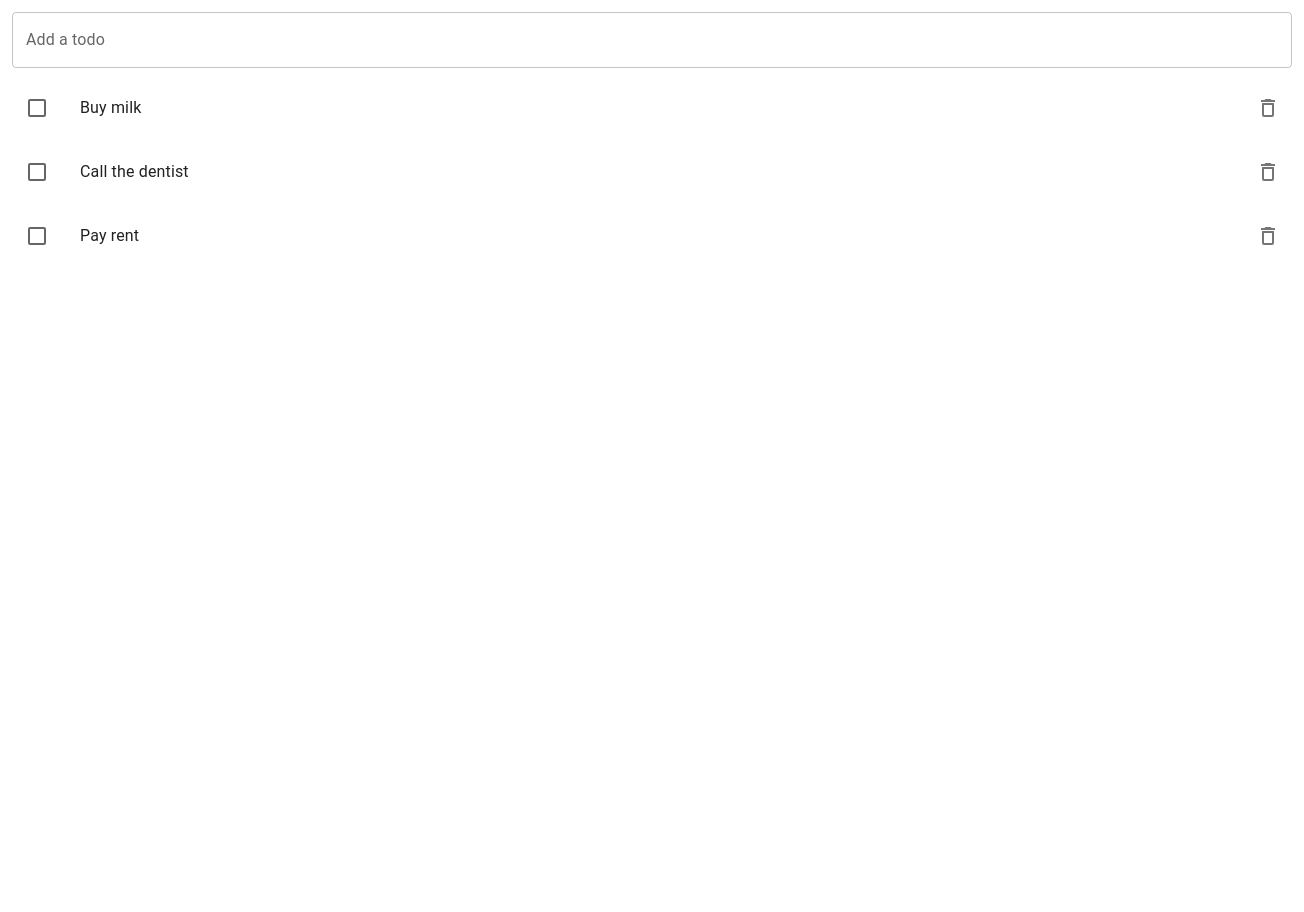
Test: a delete that fails to save puts back only its own todo, in its place
Click the button named "Delete Buy milk": (1268, 108) top-left (1248, 88), bottom-right (1288, 128)
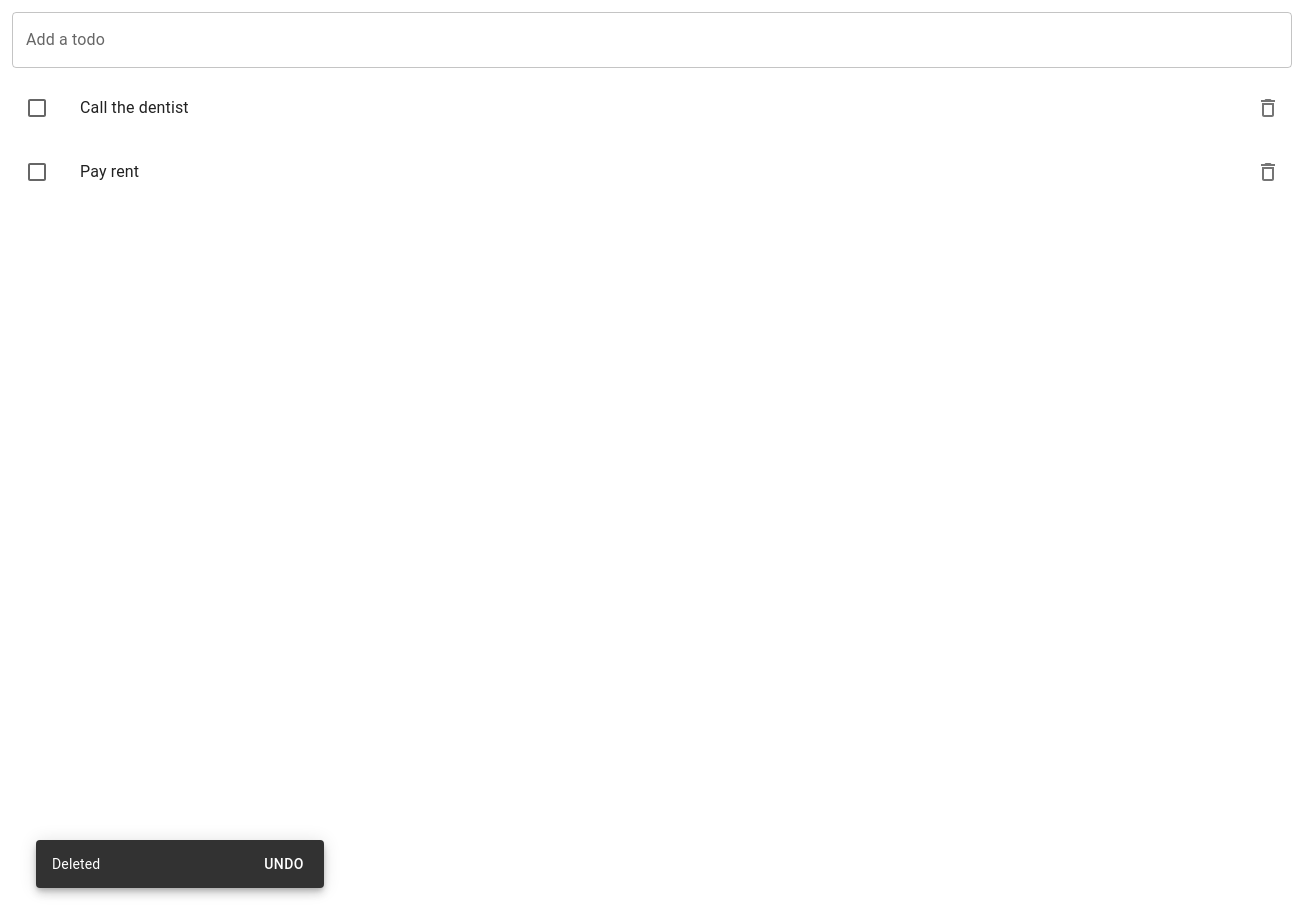
Click the button named "Delete Pay rent": (1268, 172) top-left (1248, 152), bottom-right (1288, 192)
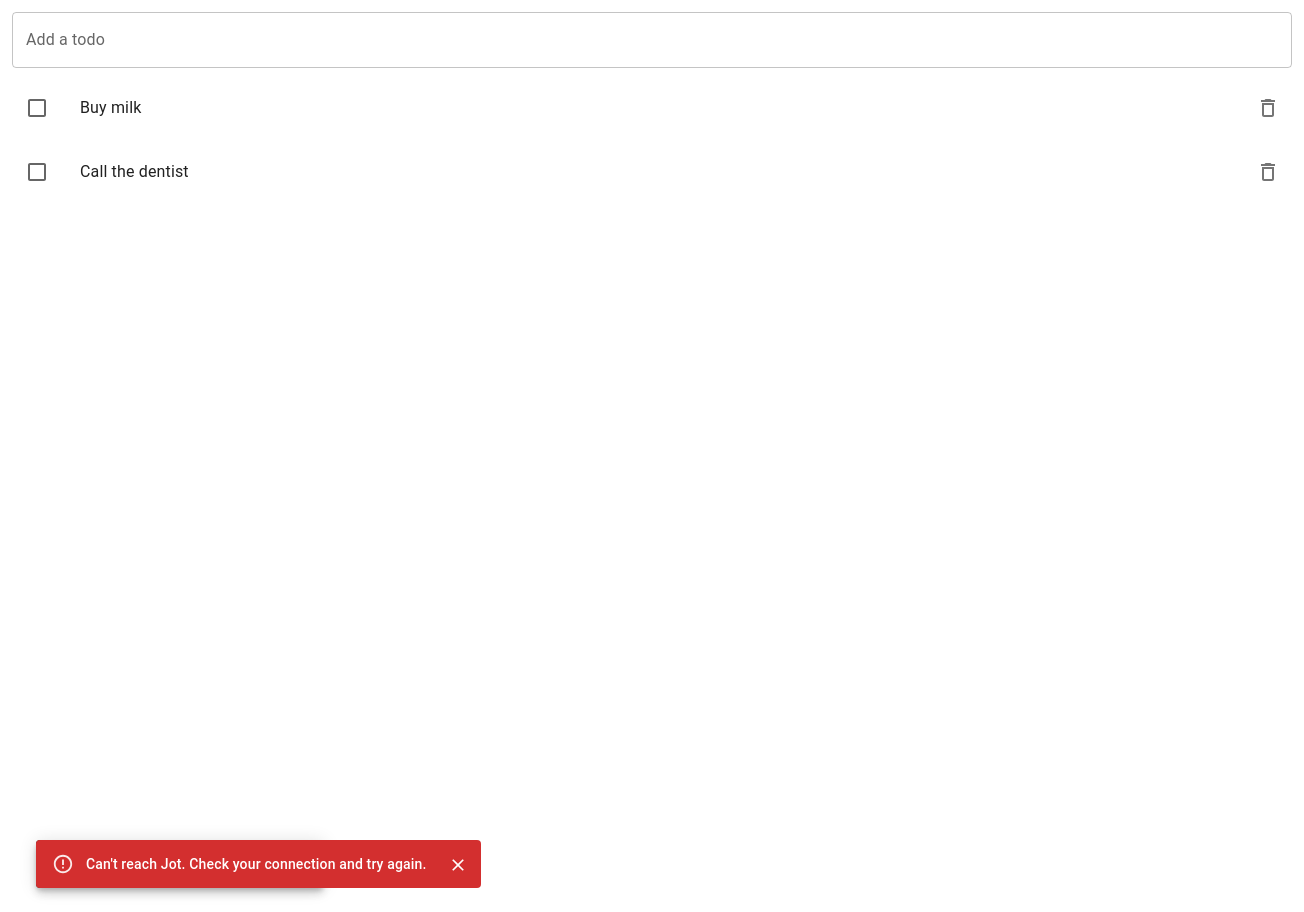
Result: the text "Can't reach Jot. Check your connection and try again." is shown at top-left (86, 856), bottom-right (426, 872)
Result: the list items read "Buy milk", "Call the dentist", in this order at top-left (12, 76), bottom-right (1292, 140); top-left (12, 140), bottom-right (1292, 204)
